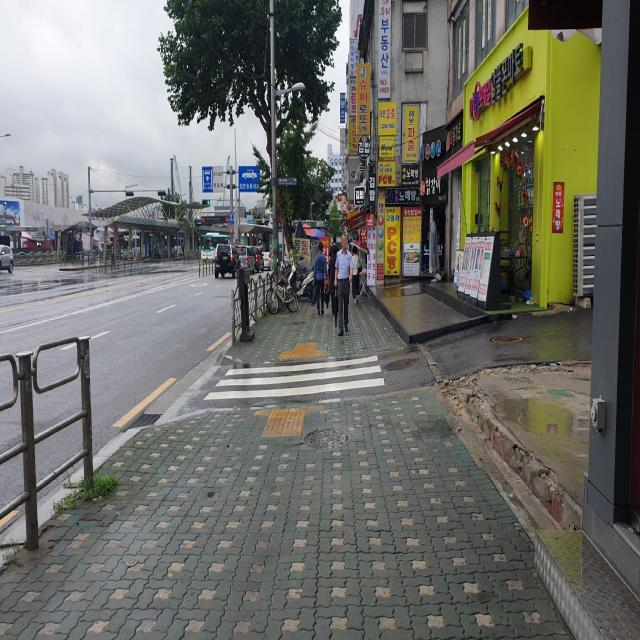횡단보도: (202, 354, 386, 401)
